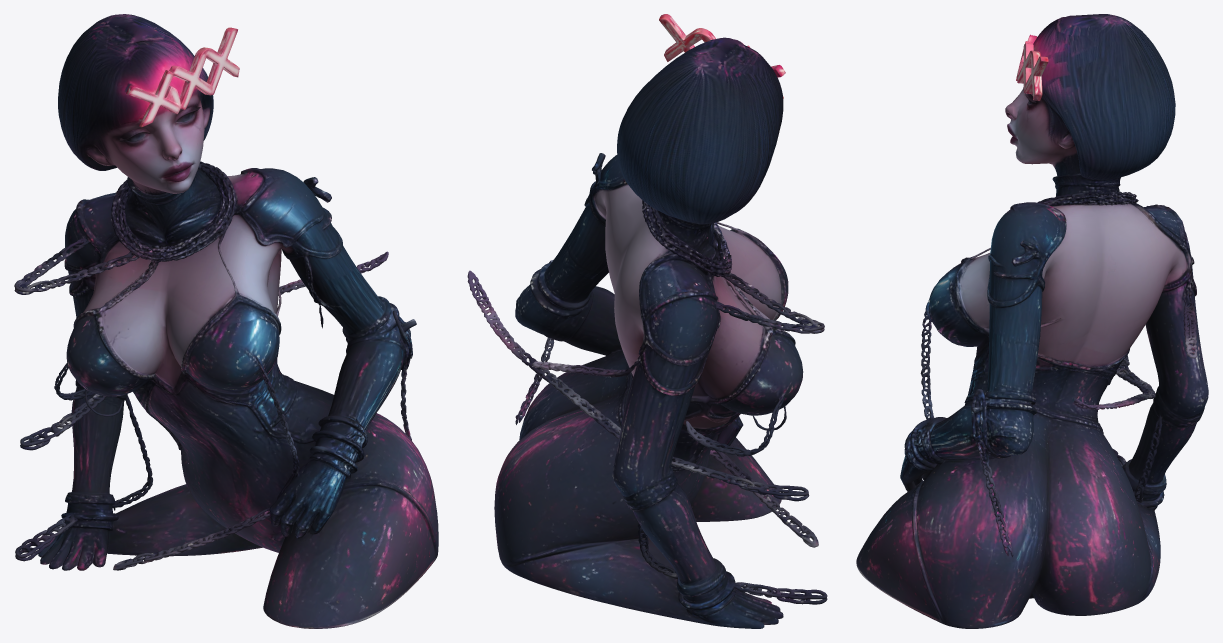
Rendered from 01a19335-77bd-7aec-8556-9fbd4a8a7b5e.glb.
The picture shows the model from 3 angles, left to right: view 1: azimuth 30°, elevation 25°; view 2: azimuth 150°, elevation 25°; view 3: azimuth 270°, elevation 25°; orthographic projection. The views are drawn at different scales.
Visible parts, largest first — view 1: material; view 2: material; view 3: material.
Boxes of the visible parts, bbox=[...] form: material: bbox=[14, 14, 438, 628]; material: bbox=[467, 14, 827, 628]; material: bbox=[856, 14, 1208, 628].
Size of the model in its own units: 0.6933 by 0.9822 by 0.6232.
1 material, 1 textured.
